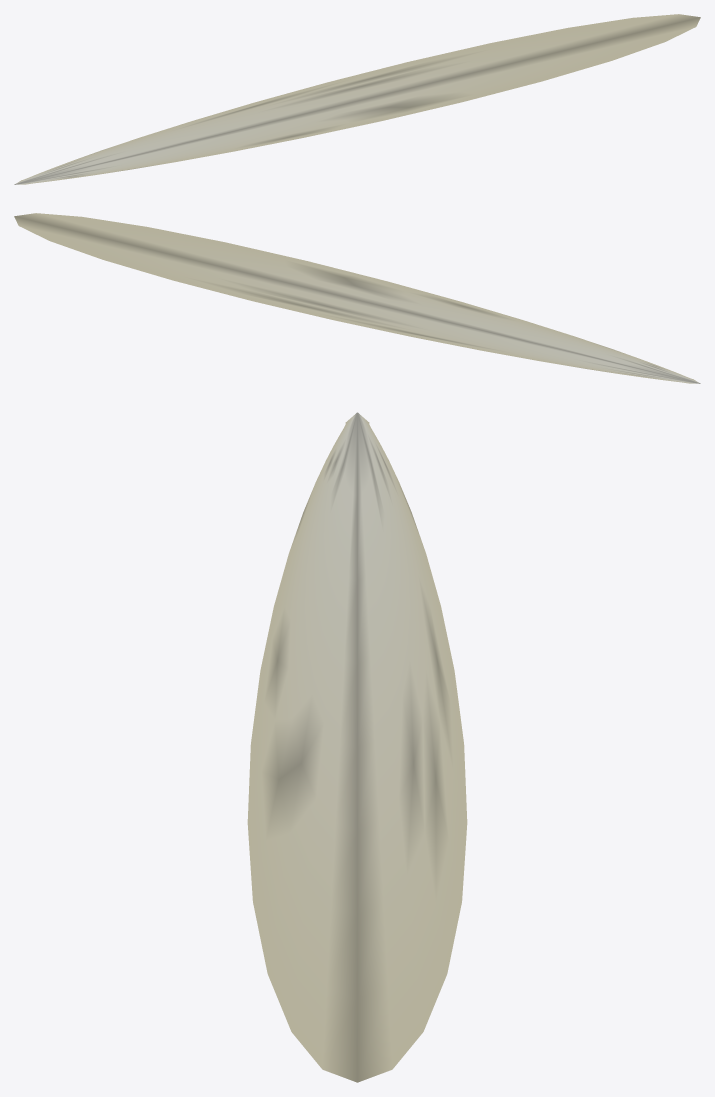
File: Oniyanma_Wing.fbx
The picture shows the model from 3 angles, top to bottom: view 1: azimuth 30°, elevation 25°; view 2: azimuth 150°, elevation 25°; view 3: azimuth 270°, elevation 25°; orthographic projection. The views are drawn at different scales.
Visible parts, largest first — view 1: Oniyanma_Wing; view 2: Oniyanma_Wing; view 3: Oniyanma_Wing.
Boxes of the visible parts, x1=… form: Oniyanma_Wing: x1=14, y1=14, x2=700, y2=184; Oniyanma_Wing: x1=14, y1=213, x2=700, y2=383; Oniyanma_Wing: x1=247, y1=412, x2=467, y2=1082.
Size of the model in its own units: 2.34 by 0 by 0.324.
